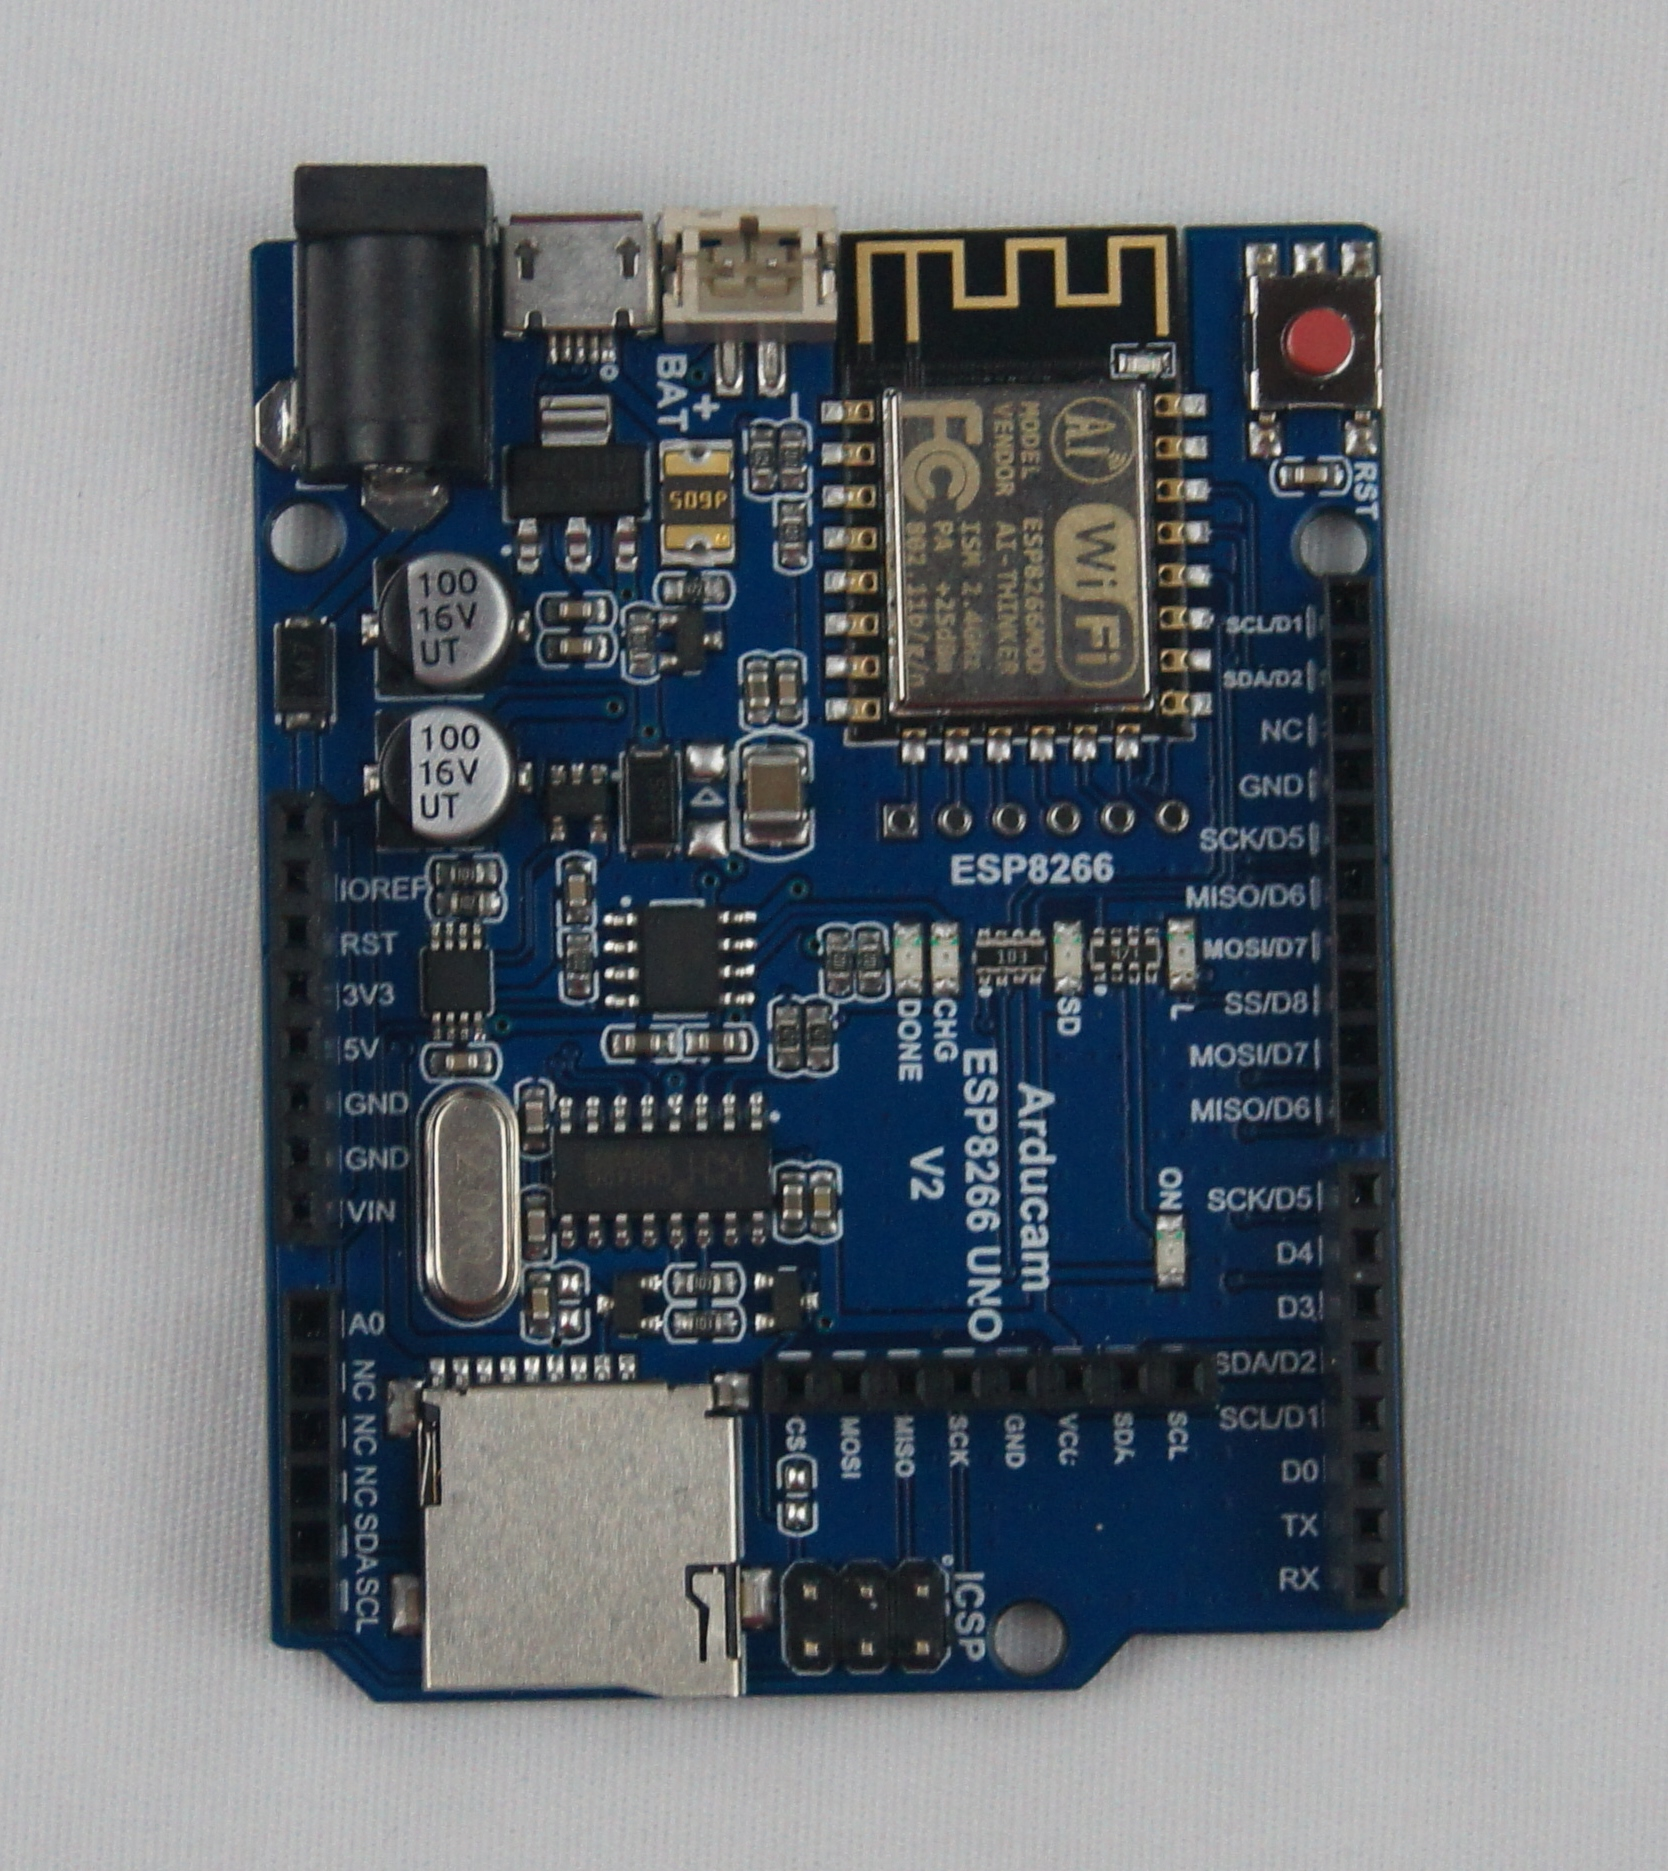kondensator: (359, 547, 509, 691), (357, 704, 518, 832), (652, 436, 744, 564), (736, 742, 805, 834), (536, 633, 607, 667), (684, 1030, 752, 1064), (515, 1090, 551, 1154), (807, 1167, 836, 1229), (1283, 465, 1348, 493), (607, 1027, 667, 1055), (557, 865, 586, 919), (520, 1195, 547, 1249), (770, 663, 799, 715), (778, 1179, 807, 1229), (547, 596, 596, 622), (526, 1278, 552, 1327), (440, 1048, 489, 1072), (742, 667, 766, 712)
